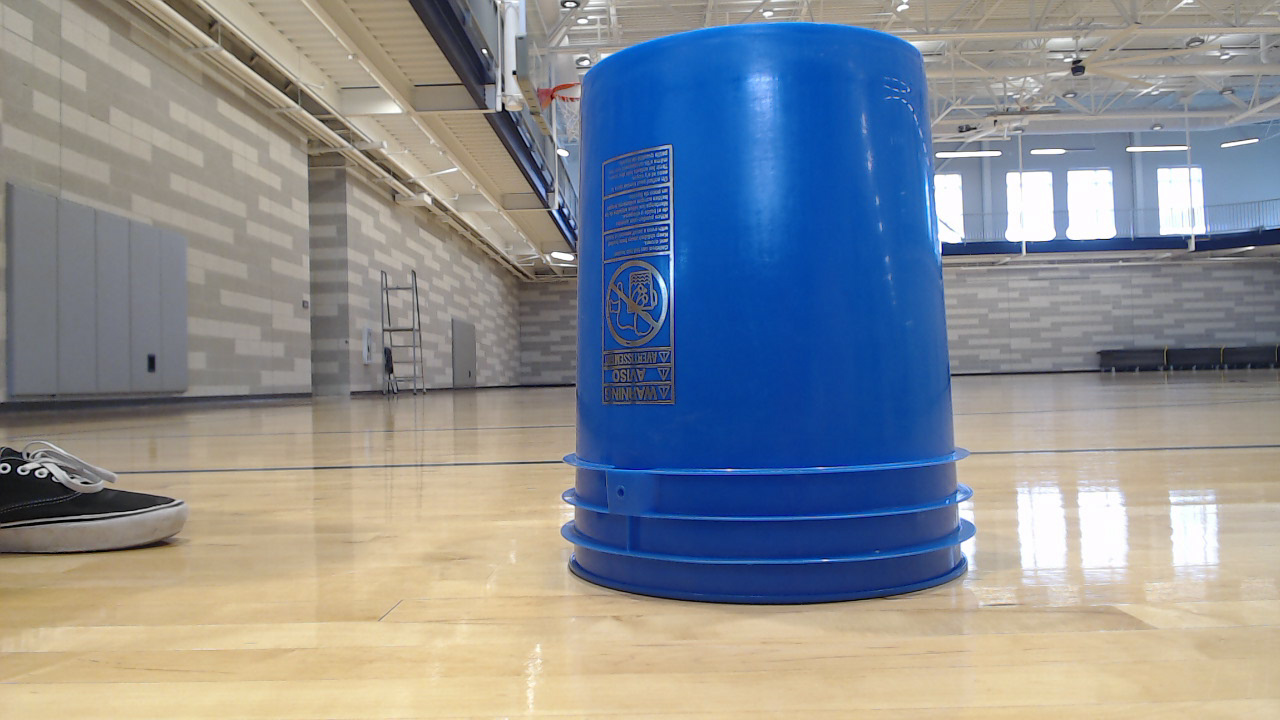blue_bucket: (567, 28, 982, 611)
